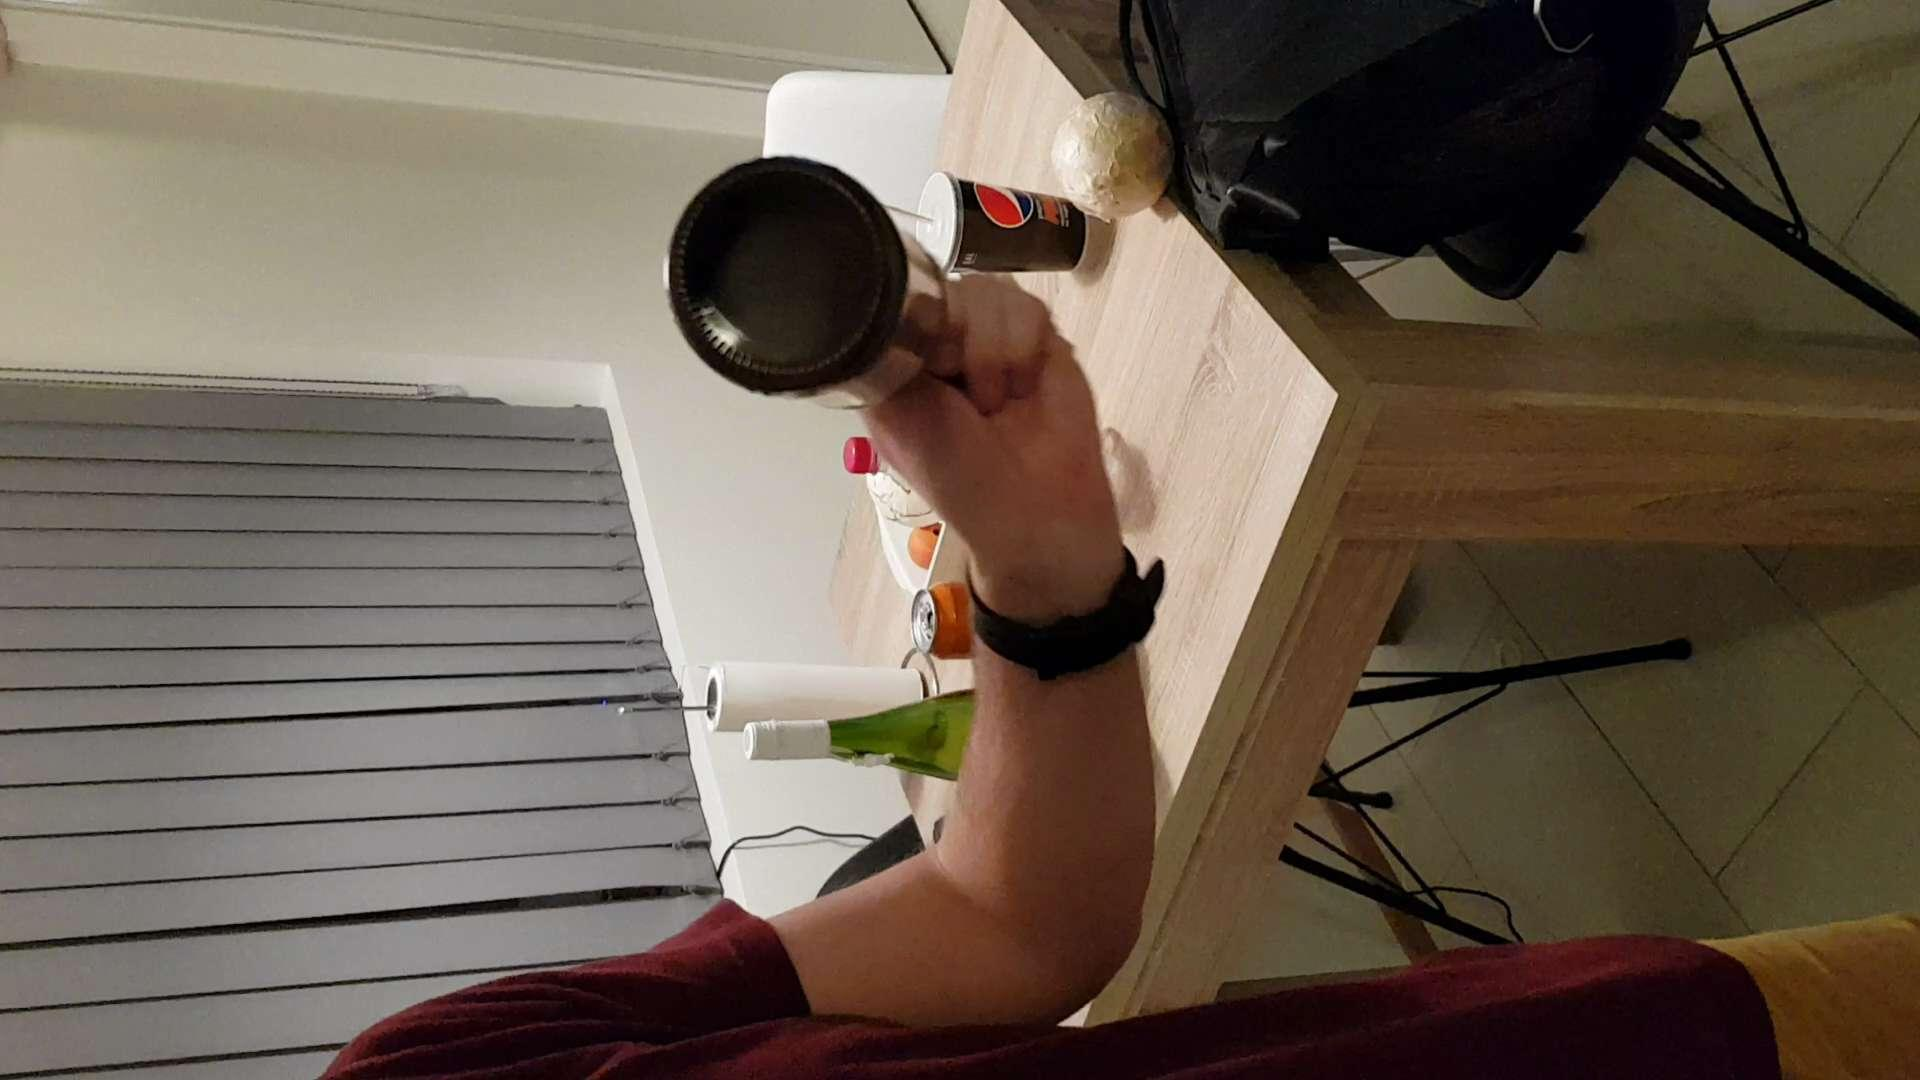Sphere: (1044, 84, 1183, 227)
bottle: (657, 141, 957, 433)
